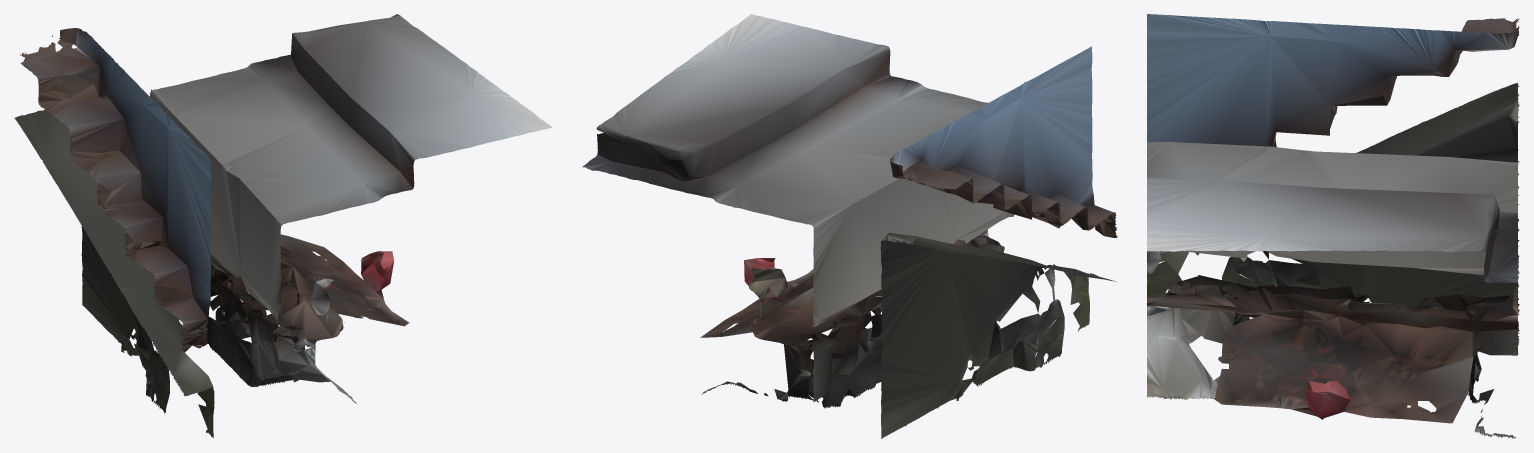
The model's file is coarse.glb.
The picture shows the model from 3 angles, left to right: view 1: azimuth 30°, elevation 25°; view 2: azimuth 150°, elevation 25°; view 3: azimuth 270°, elevation 25°; orthographic projection. The views are drawn at different scales.
Bounding box in the file's own units: 2.26 × 1.65 × 1.82.
